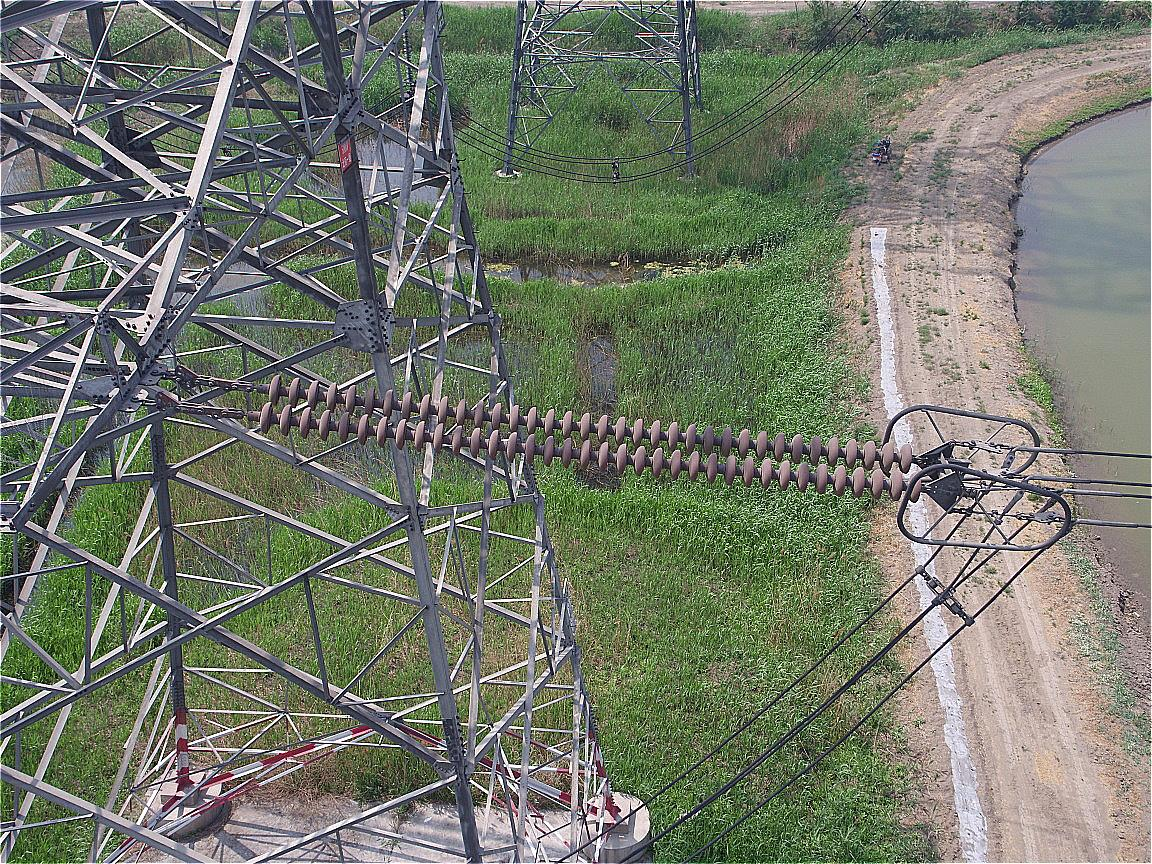insultor1: (262, 373, 924, 503)
